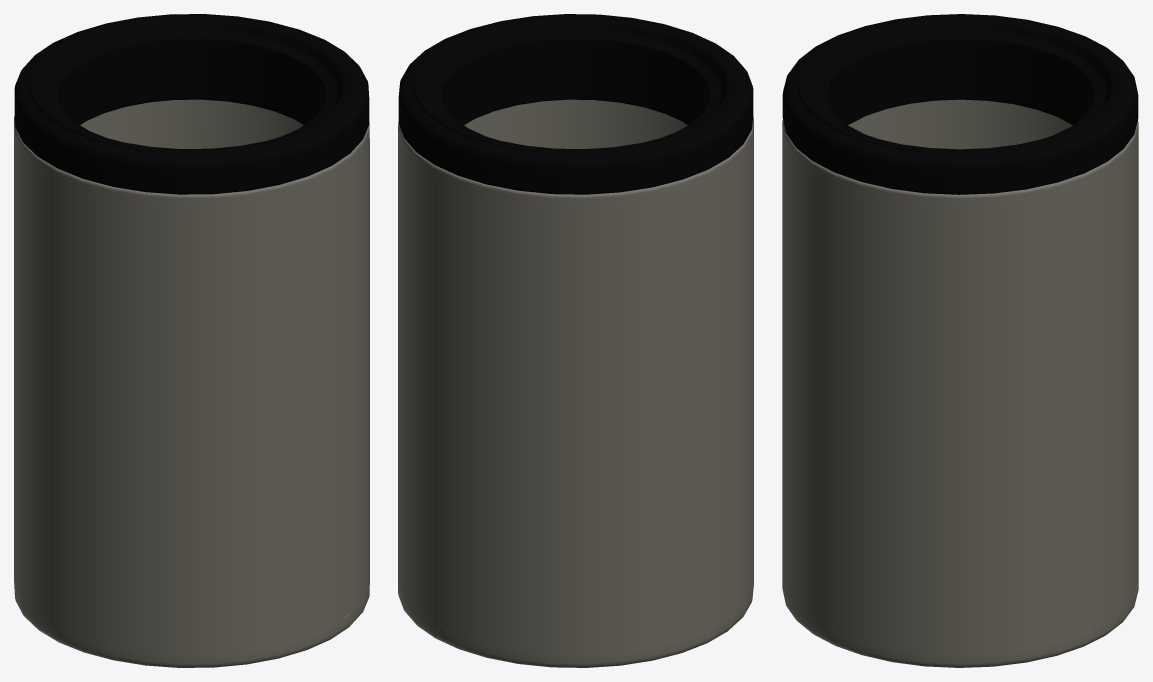
Rendered from Zappa Wide- v3.glb.
3 renders of one model, left to right at view 1: azimuth 30°, elevation 25°; view 2: azimuth 150°, elevation 25°; view 3: azimuth 270°, elevation 25°, orthographic.
Parts seen in each view (by area): view 1: Object001, Cylinder002, Cylinder001; view 2: Object001, Cylinder002, Cylinder001; view 3: Object001, Cylinder002, Cylinder001.
Boxes of the visible parts, <box> form: Object001: <box>14,127,369,654</box>; Cylinder002: <box>14,14,369,194</box>; Cylinder001: <box>14,99,369,667</box>; Object001: <box>398,130,753,654</box>; Cylinder002: <box>398,14,753,194</box>; Cylinder001: <box>398,99,753,667</box>; Object001: <box>782,133,1138,654</box>; Cylinder002: <box>782,14,1138,194</box>; Cylinder001: <box>782,99,1138,667</box>.
Bounding box in the file's own units: 0.0802 × 0.127 × 0.0802.
3 materials, 1 textured.
